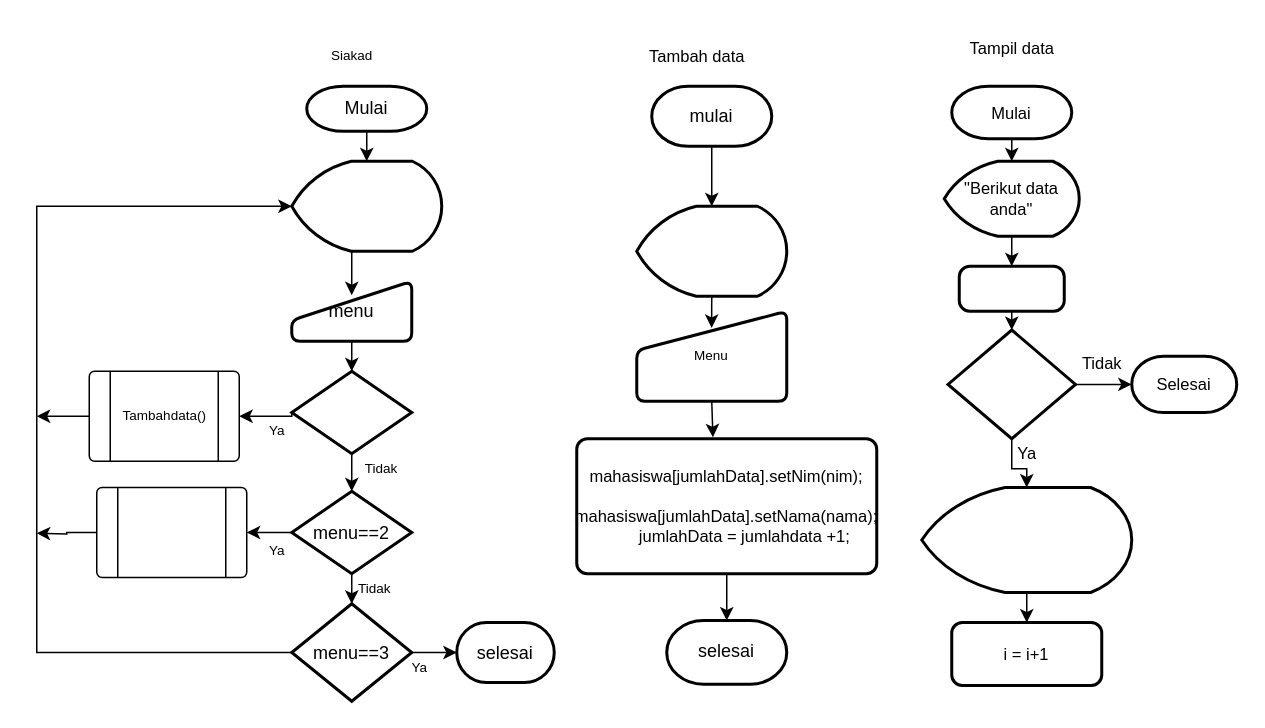
Some shapes in this 1265 by 728 pixel diagram are drawn without their labels. Each missing label, with the box of its shape:
"Silahkan tambah data": (634, 204, 788, 297)
i<jumlahdata: (946, 328, 1076, 440)
i=0: (957, 264, 1065, 312)
mahasiswa[i].getNim() mahasiswa[i].getNama(): (920, 485, 1132, 593)
Menu Siakad 1. Tambah Data 2. Lihat Data 3. Keluar: (290, 159, 442, 252)
menu==1: (290, 369, 412, 454)
tampildata(): (95, 486, 247, 578)
